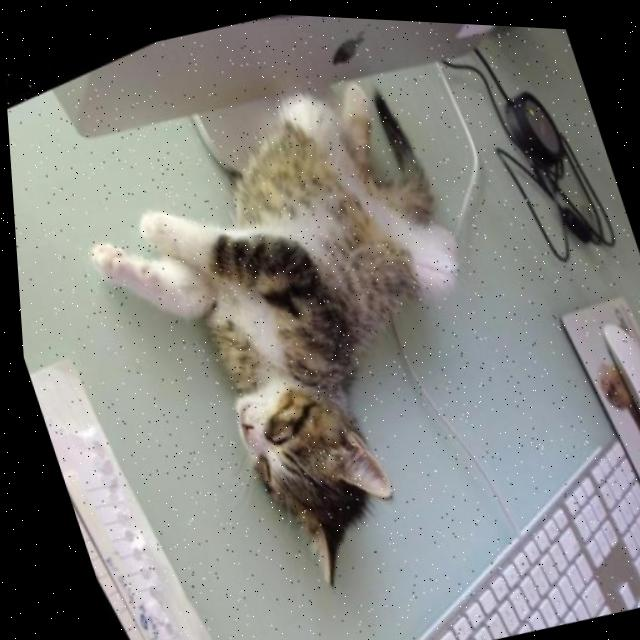Cats: (5, 0, 638, 640)
